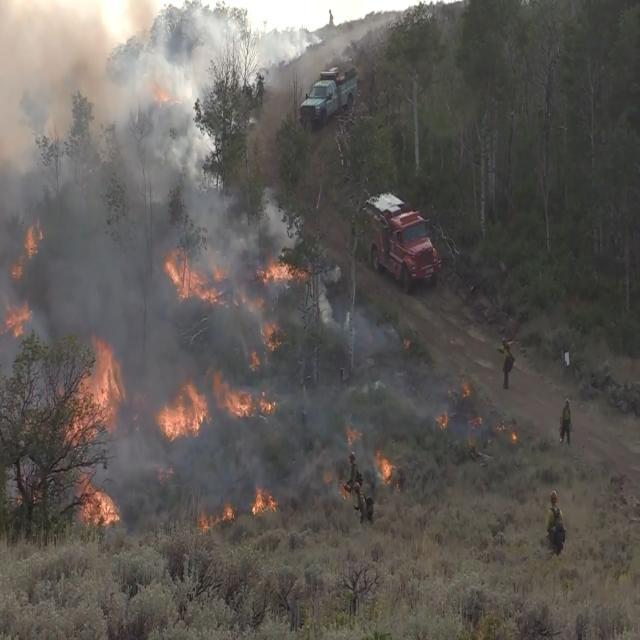Fire: (7, 185, 530, 546)
